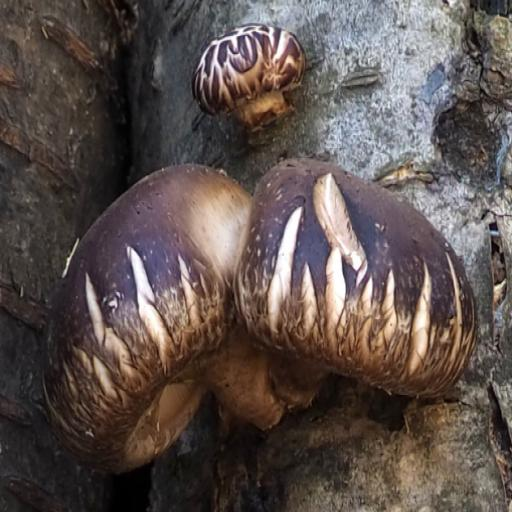Shiitake Mushroom: (15, 121, 480, 475), (198, 17, 306, 133)
